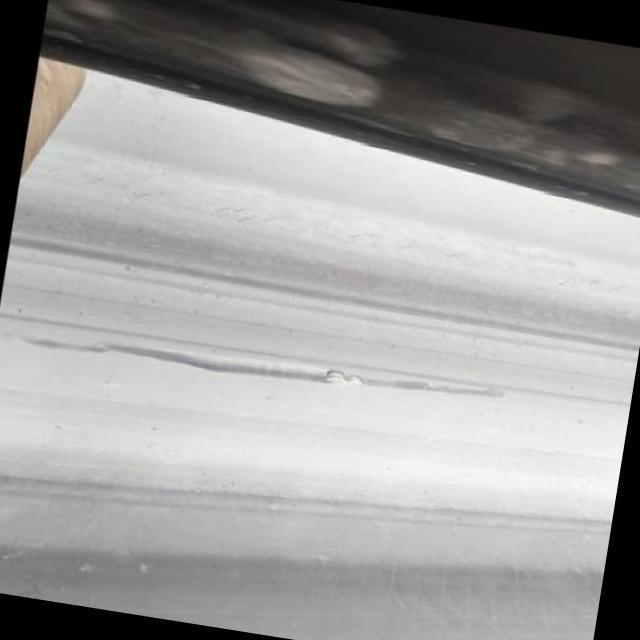Impact Damage: (321, 365, 363, 393)
